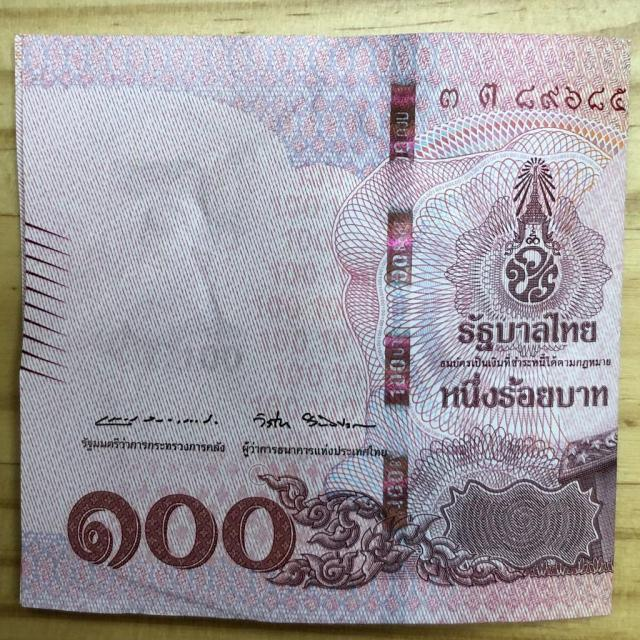THAI100: (15, 33, 628, 623)
